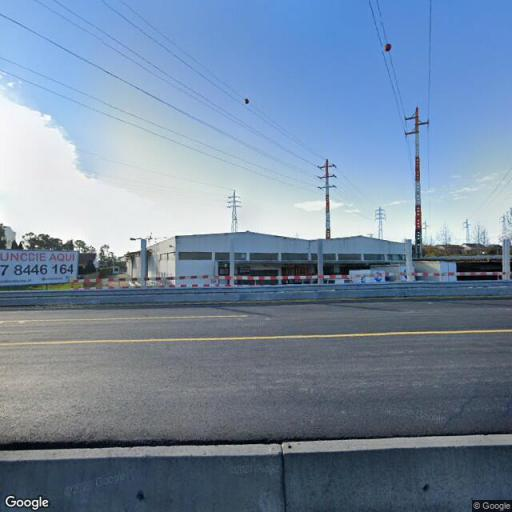mono_10: (402, 104, 431, 262)
mono_9: (314, 157, 338, 245)
ss_3: (226, 188, 244, 234), (373, 205, 389, 239)
ss_4: (462, 218, 472, 248), (422, 218, 430, 250)
